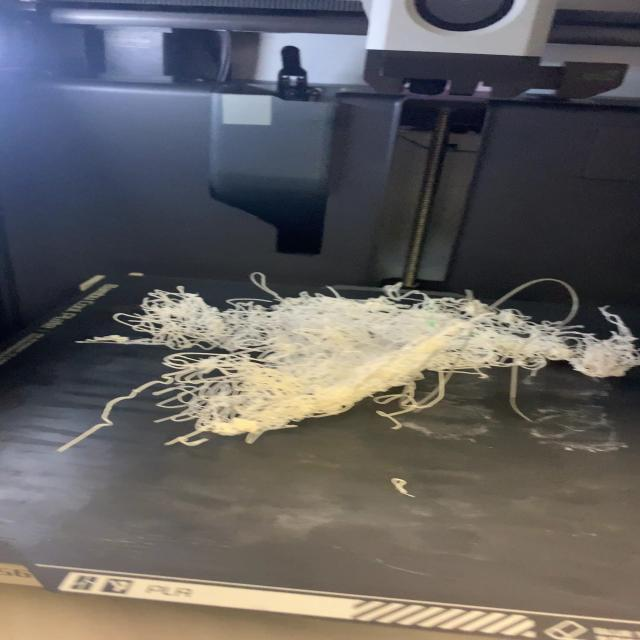spaghetti: (52, 270, 636, 454)
